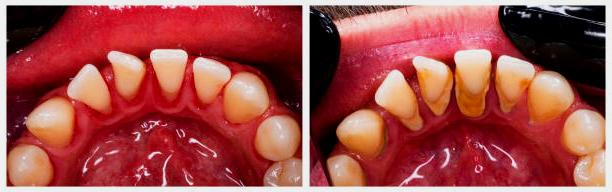Calculus: (451, 55, 493, 120), (492, 58, 530, 120), (414, 57, 448, 125)
Gingivitis: (422, 115, 511, 161)
